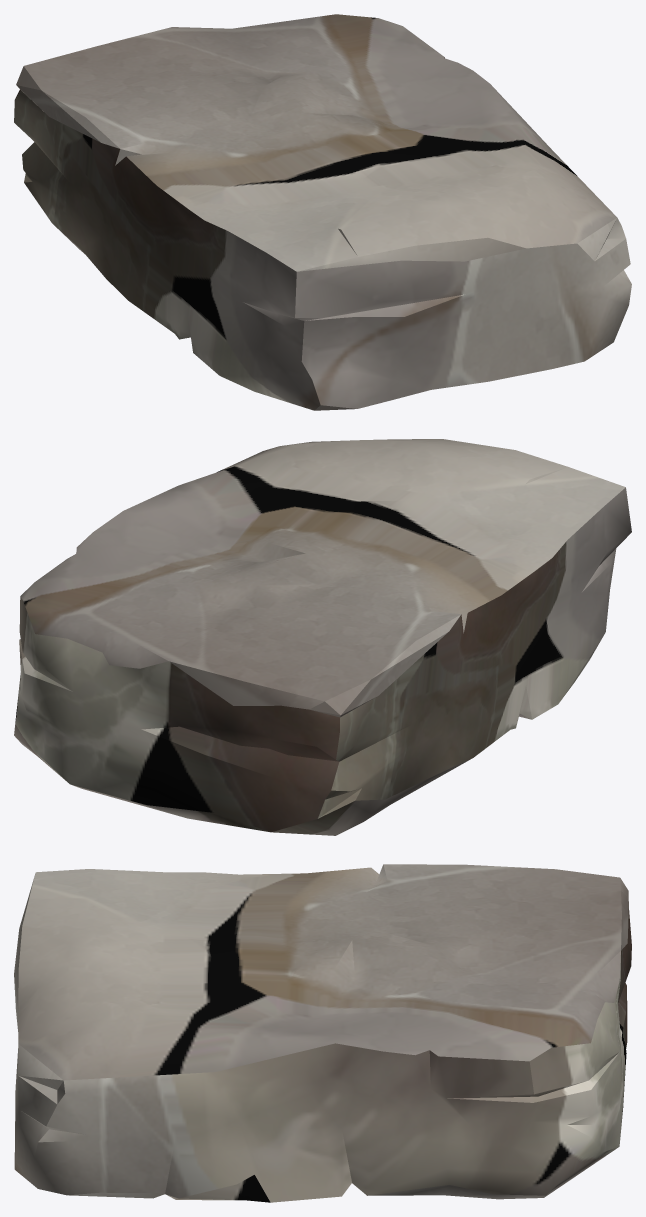
The model's file is blocky_plat01.obj.
The picture shows the model from 3 angles, top to bottom: view 1: azimuth 30°, elevation 25°; view 2: azimuth 150°, elevation 25°; view 3: azimuth 270°, elevation 25°; orthographic projection. The views are drawn at different scales.
Parts seen in each view (by area): view 1: group.005; view 2: group.005; view 3: group.005.
Boxes of the visible parts, <box> form: group.005: <box>14,14,631,410</box>; group.005: <box>14,439,631,835</box>; group.005: <box>14,864,631,1202</box>.
Bounding box in the file's own units: 159 × 71 × 224.
